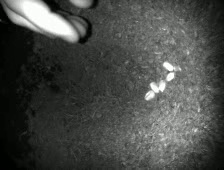corn: (141, 87, 158, 103), (147, 79, 161, 95), (160, 60, 175, 73), (156, 78, 169, 93), (163, 69, 177, 82), (172, 63, 182, 74)
